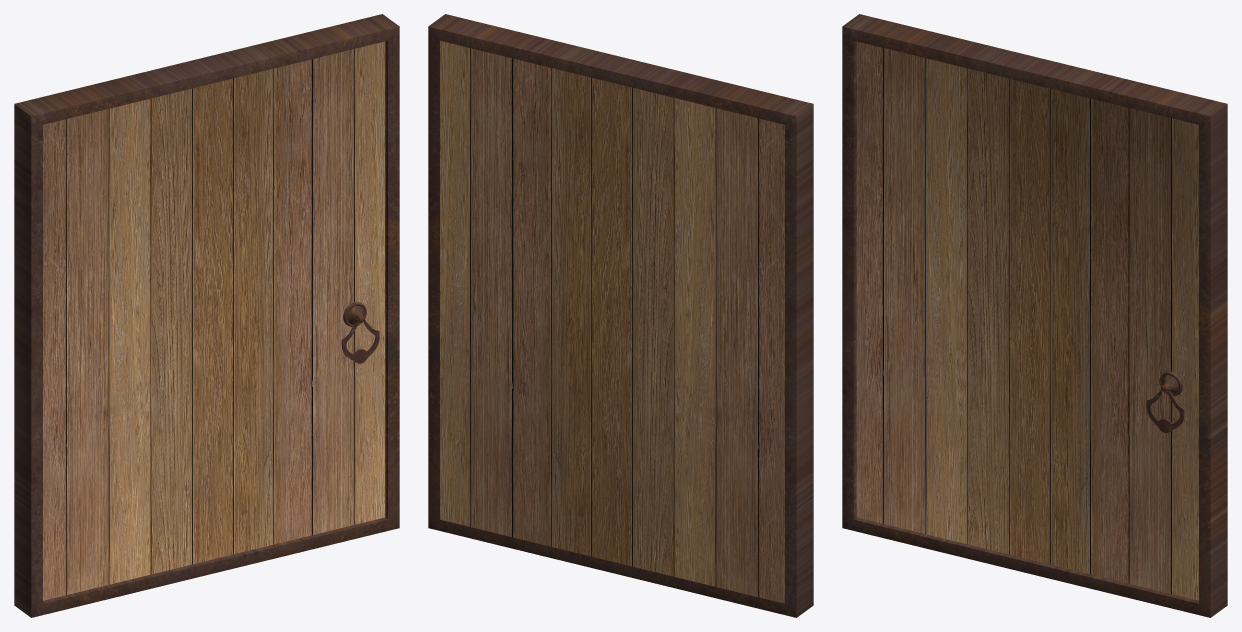
File: left-outside-door.gltf
3 renders of one model, left to right at view 1: azimuth 30°, elevation 25°; view 2: azimuth 150°, elevation 25°; view 3: azimuth 330°, elevation 25°, orthographic.
Visible parts, largest first — view 1: Big Old Gates.002; view 2: Big Old Gates.002; view 3: Big Old Gates.002.
Part boxes in pixels (<box>): Big Old Gates.002: <box>14,14,399,617</box>; Big Old Gates.002: <box>428,14,813,617</box>; Big Old Gates.002: <box>842,14,1227,617</box>.
Bounding box in the file's own units: 1.97 × 2.57 × 0.2025.
2 materials, 2 textured.
